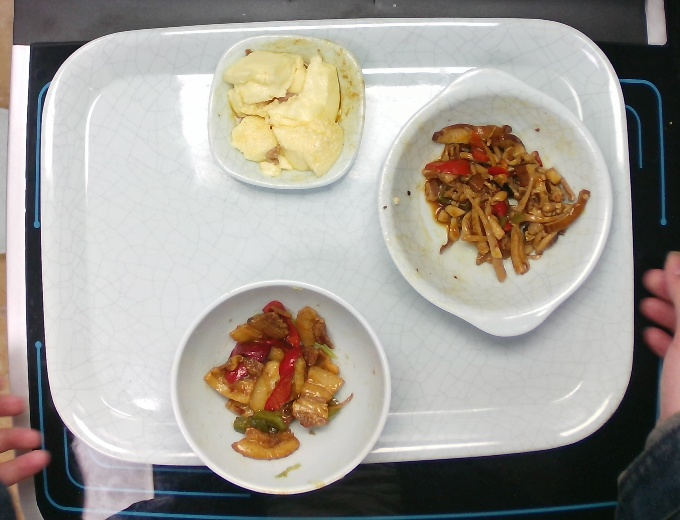JYsf-Fan_Wan: (168, 278, 393, 497)
JYsf-Shuang_Er_Wan: (375, 65, 615, 339)
JYsf-Si_Fang_Die: (206, 33, 367, 191)
